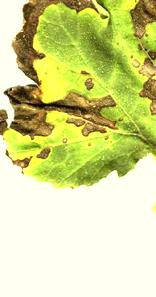Tomato leaf bacterial spot: (0, 0, 156, 189)
